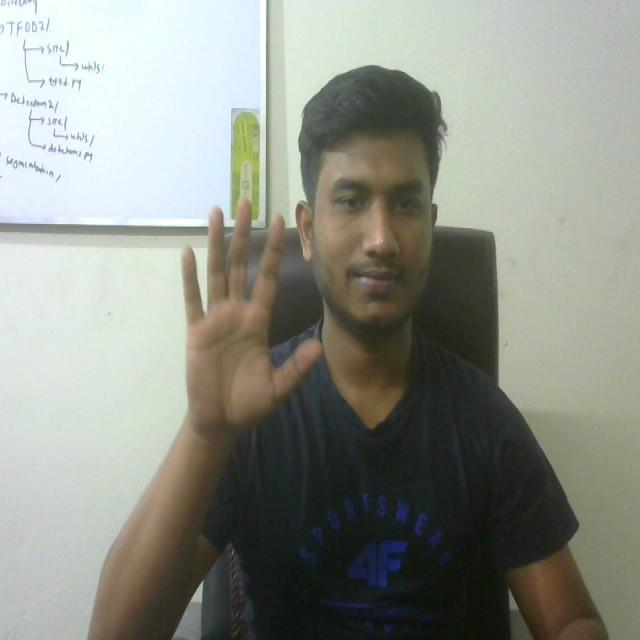Hello: (139, 194, 333, 452)
